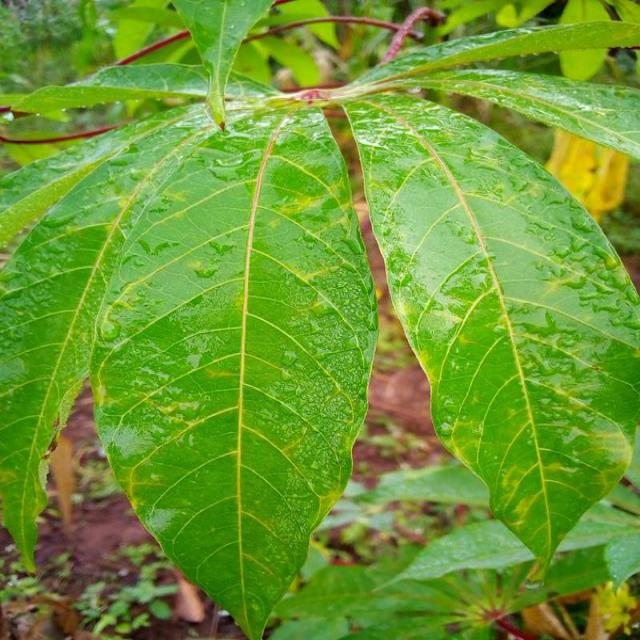cassava leaf: (0, 92, 380, 638), (340, 88, 638, 579)
